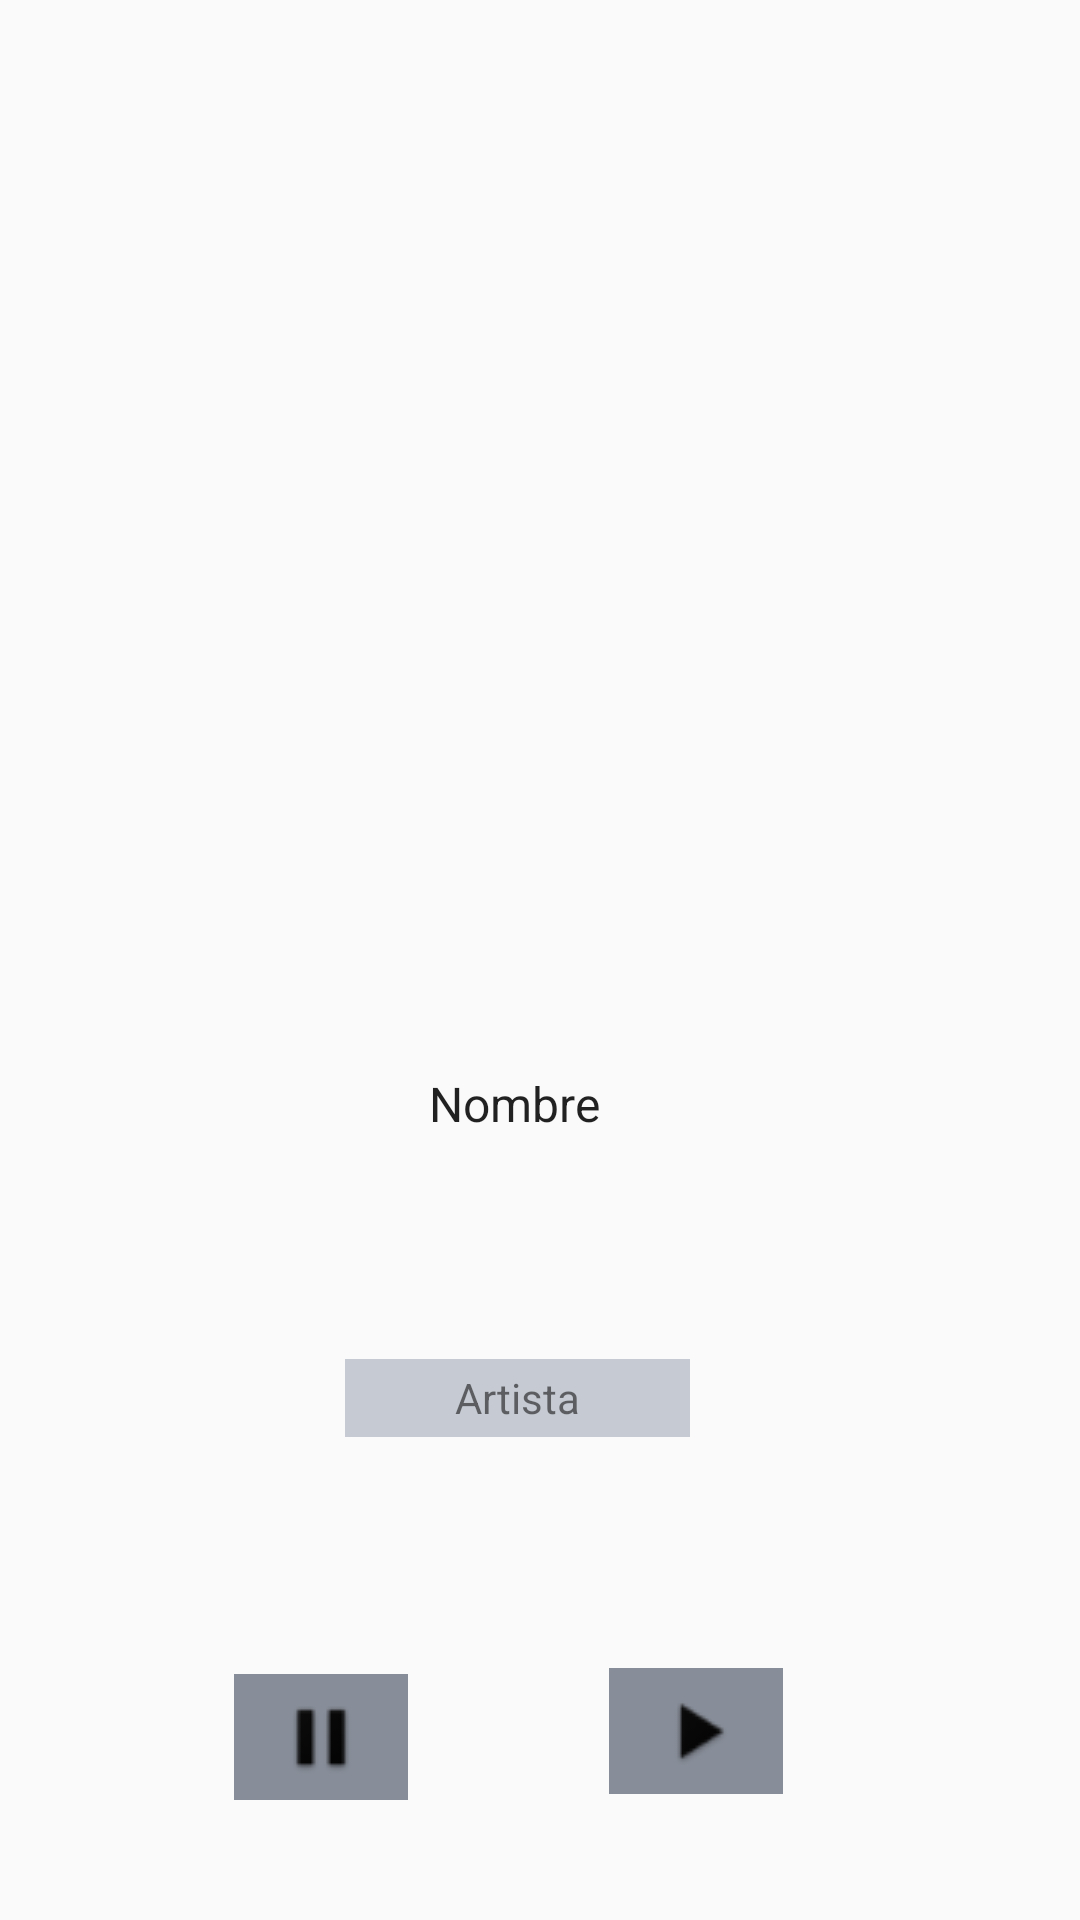

Icon click points for this 1080*1920 phone screenshot, format point (x, y):
play: point (696, 1731)
